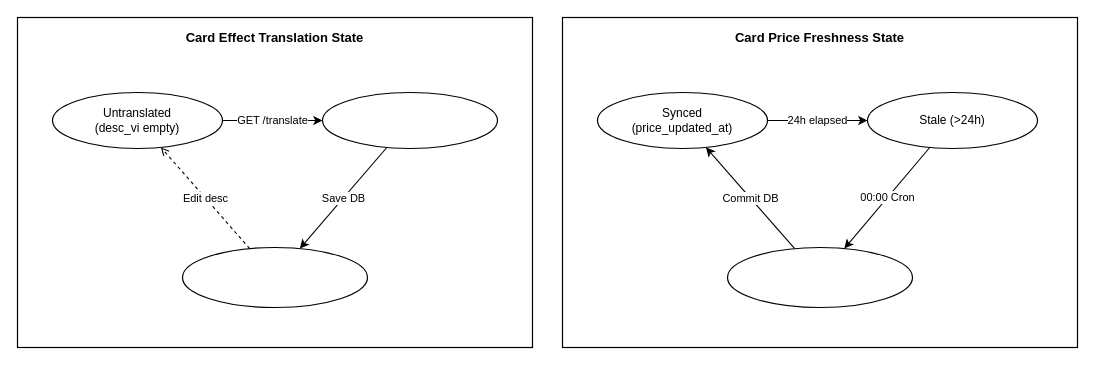
Image size: 1096x366. Some labels were removed from this diagram. Each missing label, with the centre of its shape:
"Cached in DB (desc_vi saved)" belongs at (x=274, y=277).
"Translating (EN->VI Pipeline)" belongs at (x=409, y=120).
"Updating min_price (Cron / Admin)" belongs at (x=819, y=277).
